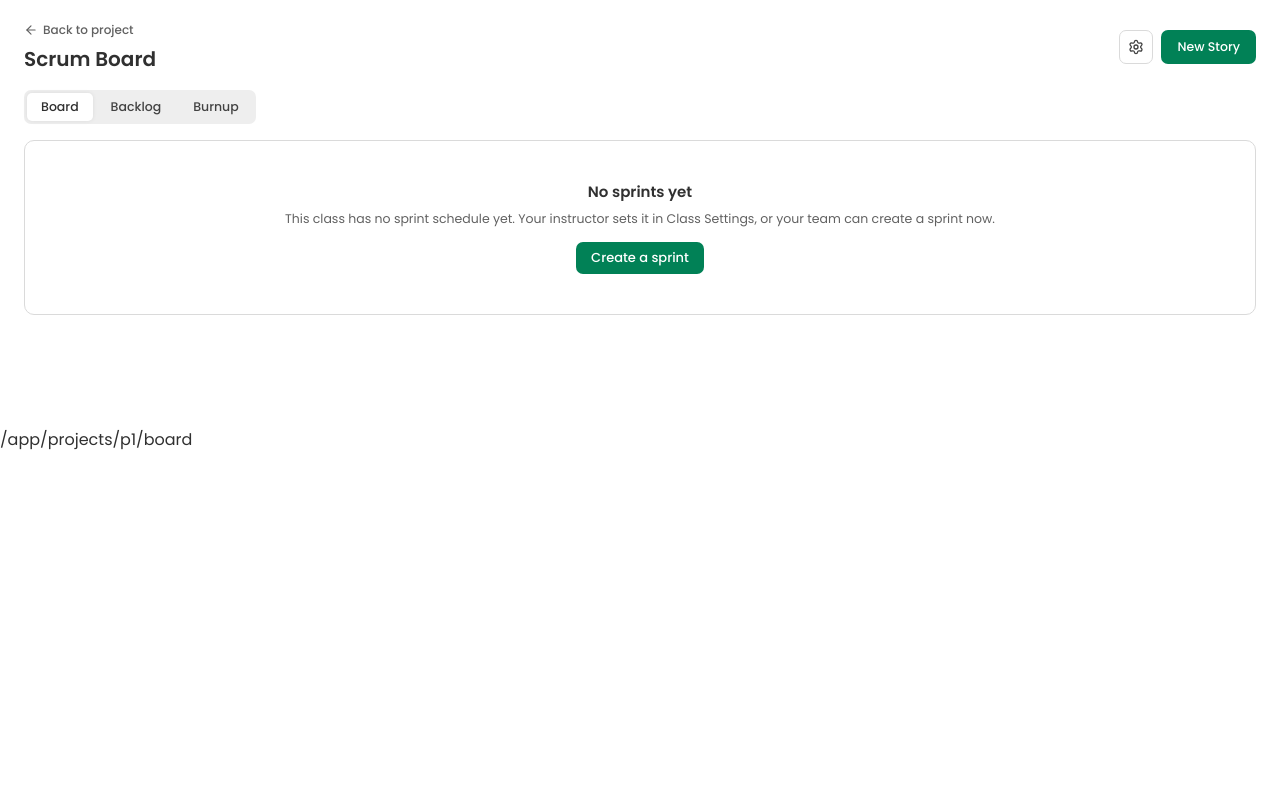
Scenario: ScrumBoardPage new sprint › creates the first sprint from the empty board and shows it
Click the button "Create a sprint" at (640, 258), box [576,242,704,274]
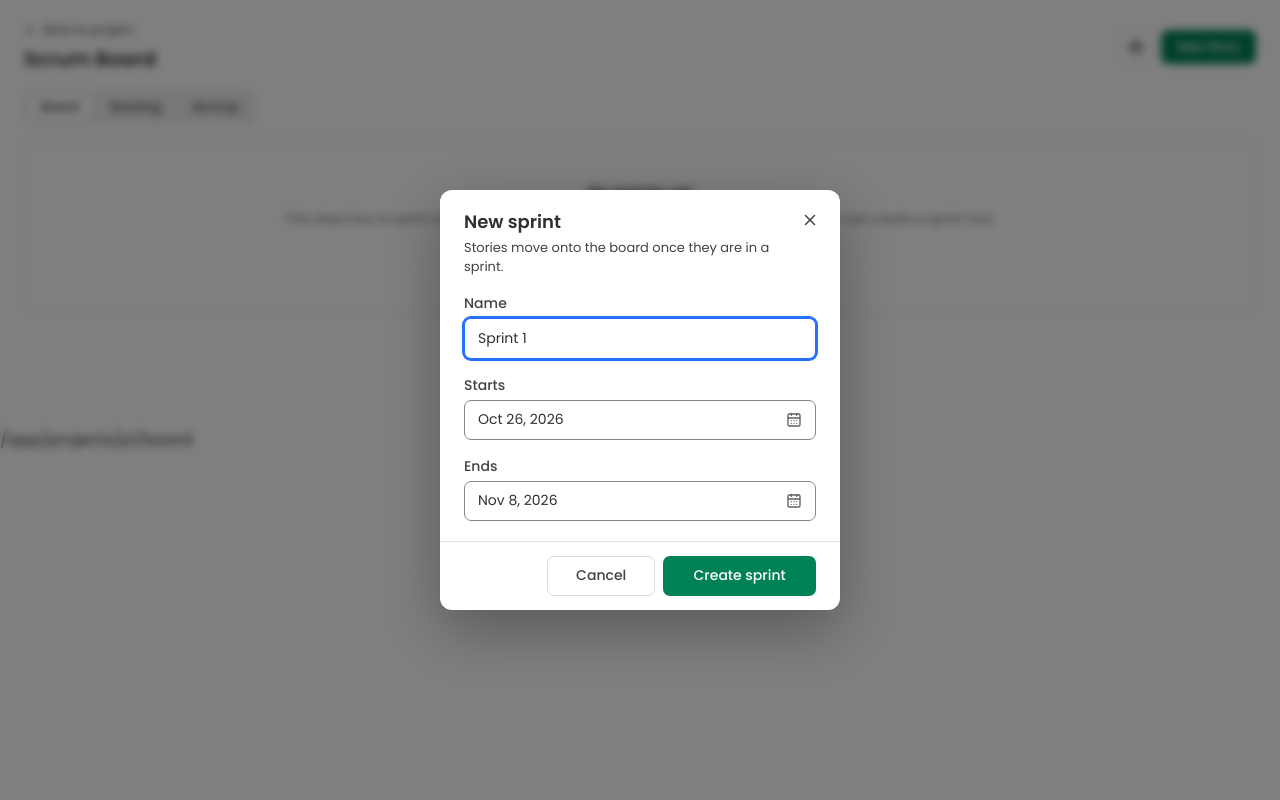
Now the field labelled "Name" holds "Sprint 1", box [464,318,816,359]
Click the button "Create sprint" at (740, 576), box [663,556,816,596]
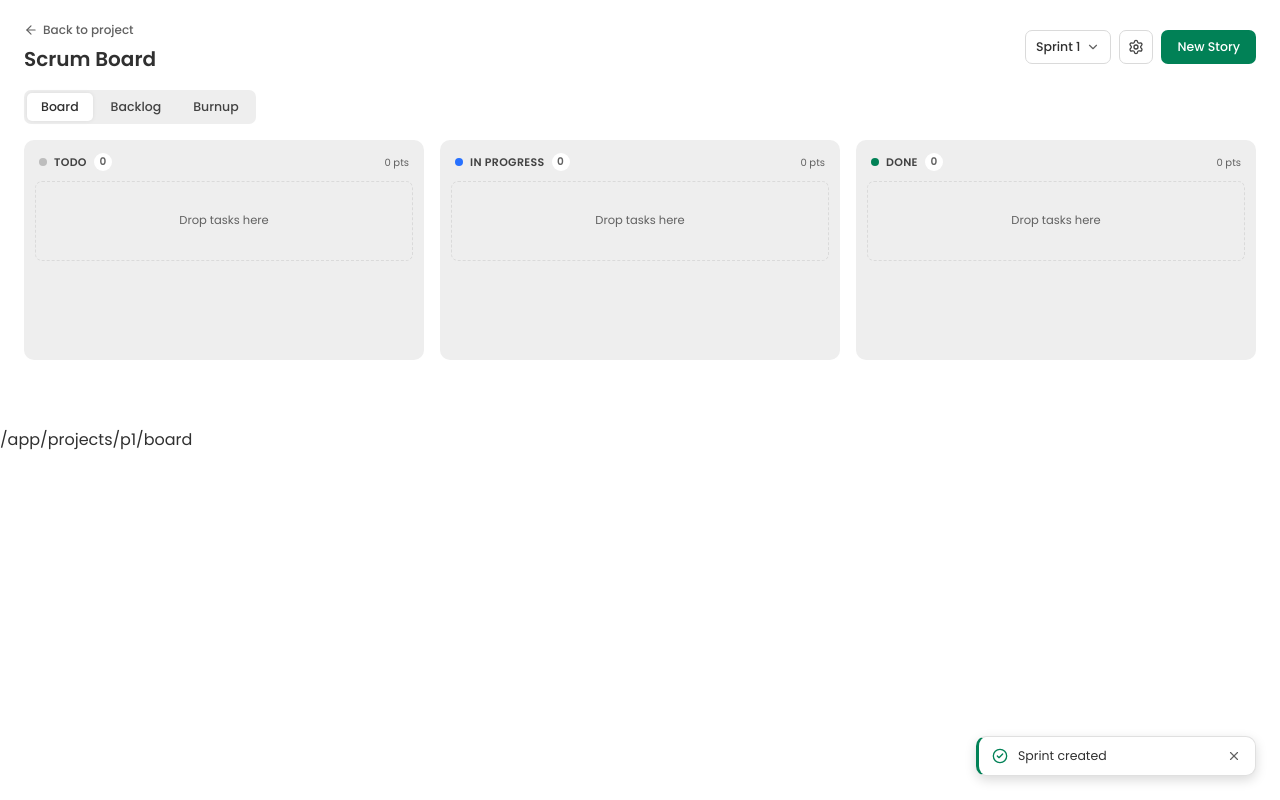
Now the heading "New sprint" is gone
Now the heading "No sprints yet" is gone
